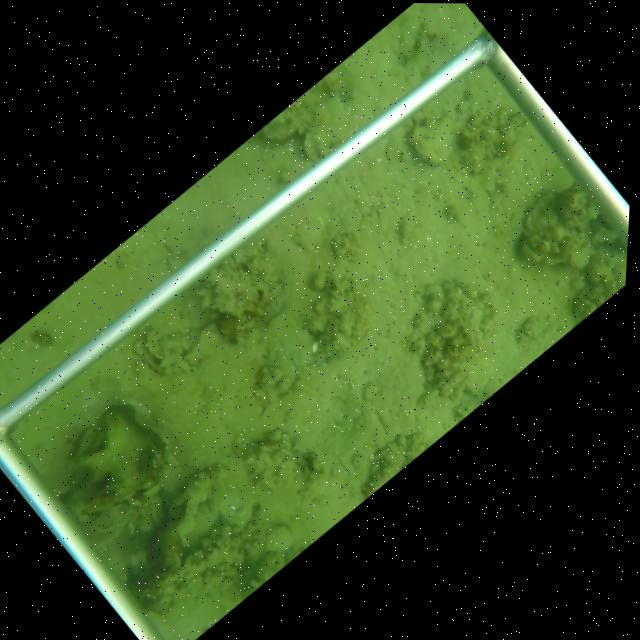Oyster-Closed: (130, 331, 168, 378), (141, 324, 164, 360)
Oyster-Indeterminate: (296, 94, 356, 162), (408, 114, 464, 165)
